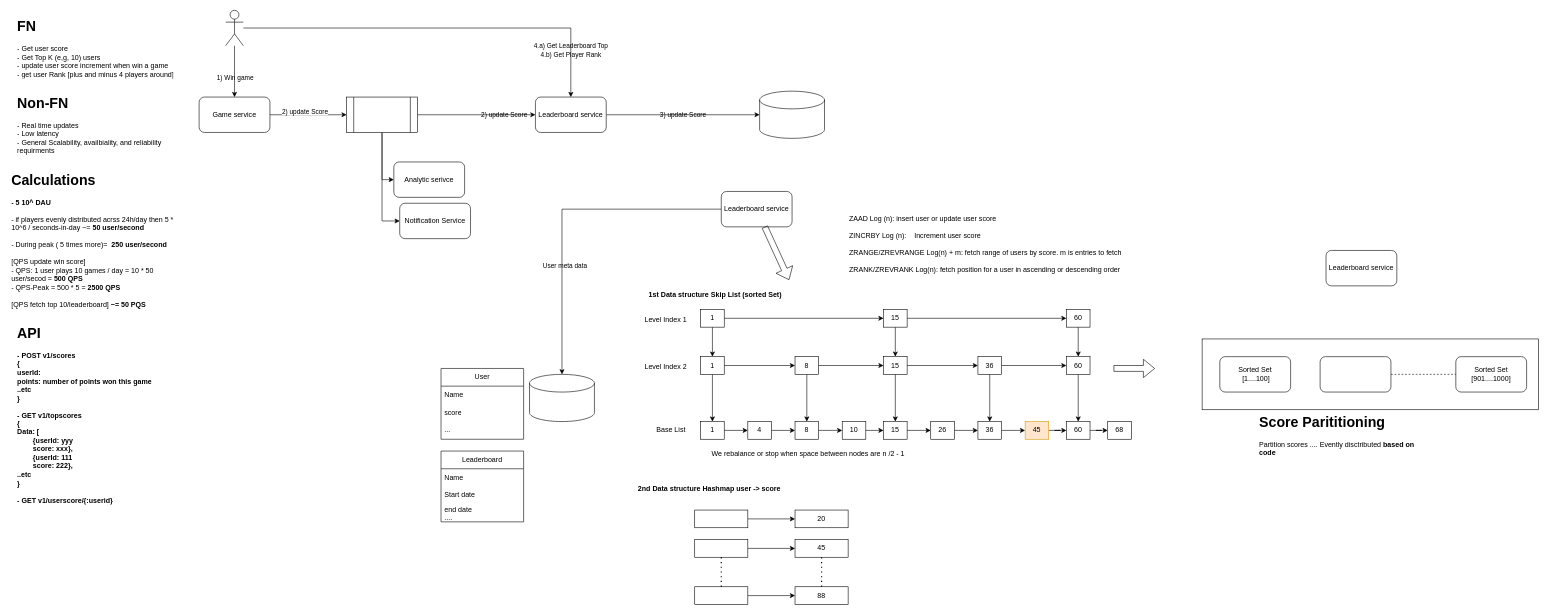
Some shapes in this 1549 by 615 pixel diagram are drawn without their labels. The shapes that lost their labels are listed below. From the top down, each one's centre as x and y in pixels, then its label:
point 234,28: Actor
point 381,114: Kafka
point 792,114: Leaderboard score
point 1355,374: Sorted Set [101....200]
point 561,398: RDS
point 721,518: User A
point 721,548: User B
point 721,595: User z
